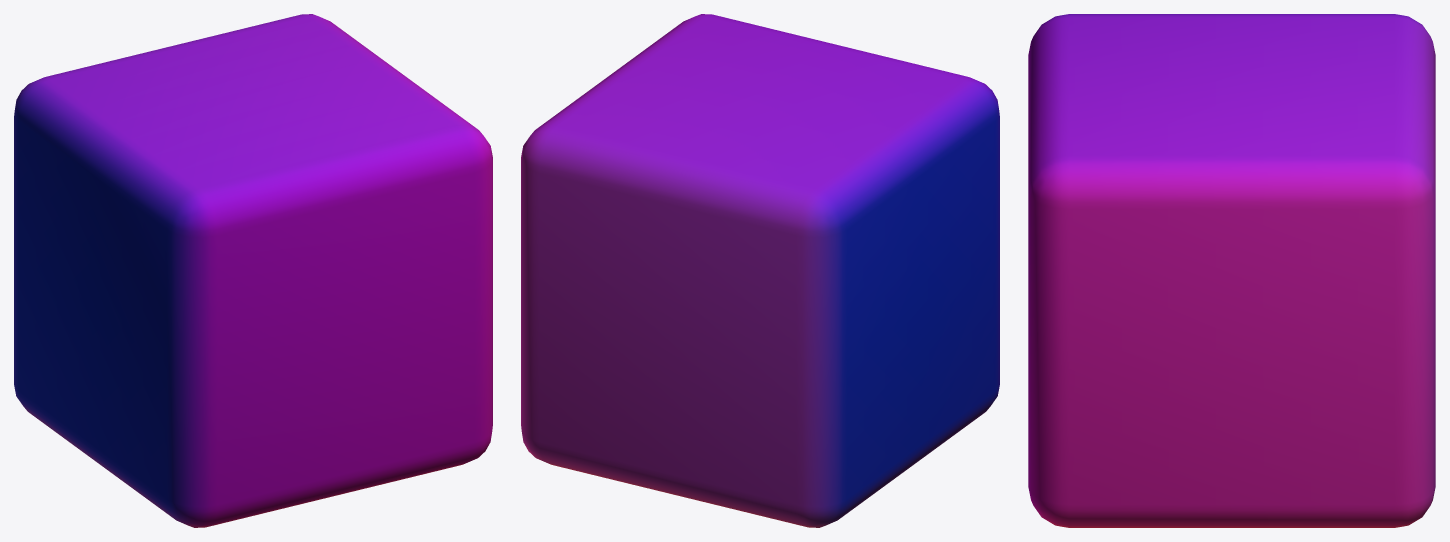
Rendered from Roundcube.fbx.
3 views of the same model, side by side, from view 1: azimuth 30°, elevation 25°; view 2: azimuth 150°, elevation 25°; view 3: azimuth 270°, elevation 25° (orthographic). The views are drawn at different scales.
Visible parts, largest first — view 1: Roundcube; view 2: Roundcube; view 3: Roundcube.
Boxes of the visible parts, x1,y1,x2,y2 form: Roundcube: [14, 14, 492, 527]; Roundcube: [521, 14, 999, 527]; Roundcube: [1028, 14, 1435, 527].
Size of the model in its own units: 200 by 200 by 200.
